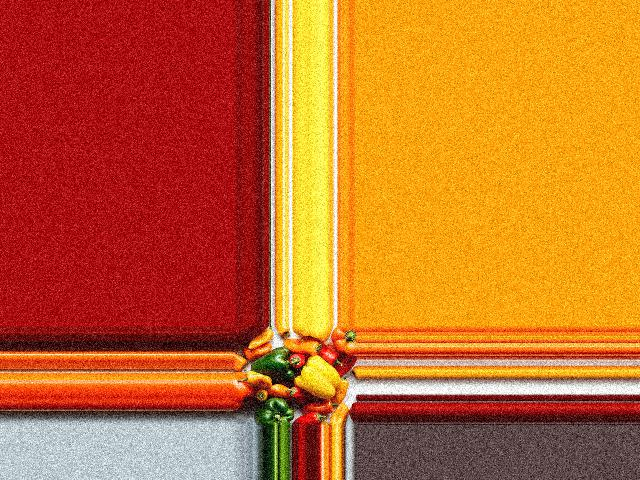bell_pepper: (295, 408, 327, 425)
